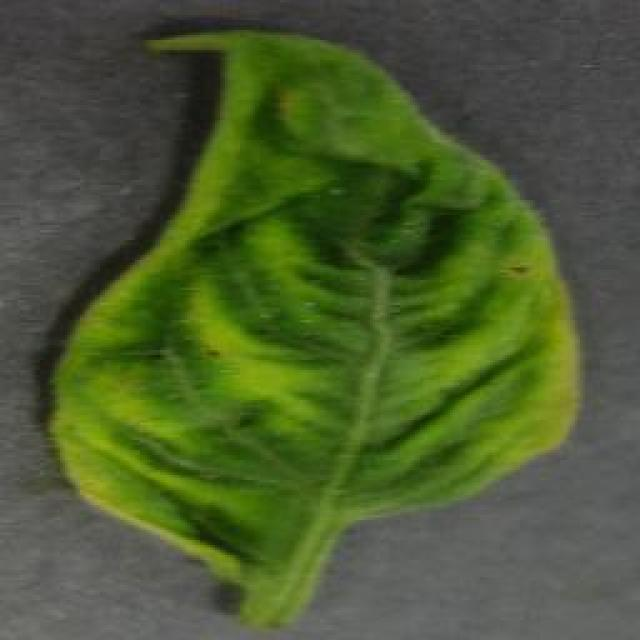Tomato yellow virus leaf: (49, 31, 578, 578)
